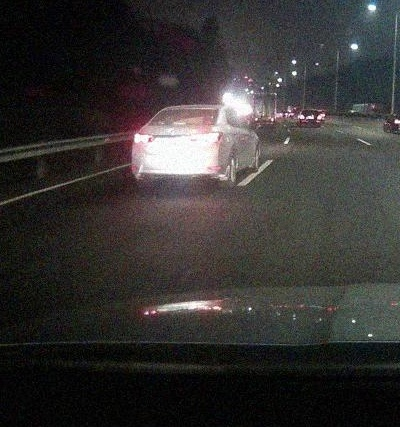L_light: (133, 132, 153, 143)
R_light: (197, 131, 223, 142)
T_light: (181, 109, 196, 112)
night-right: (131, 104, 226, 185)
